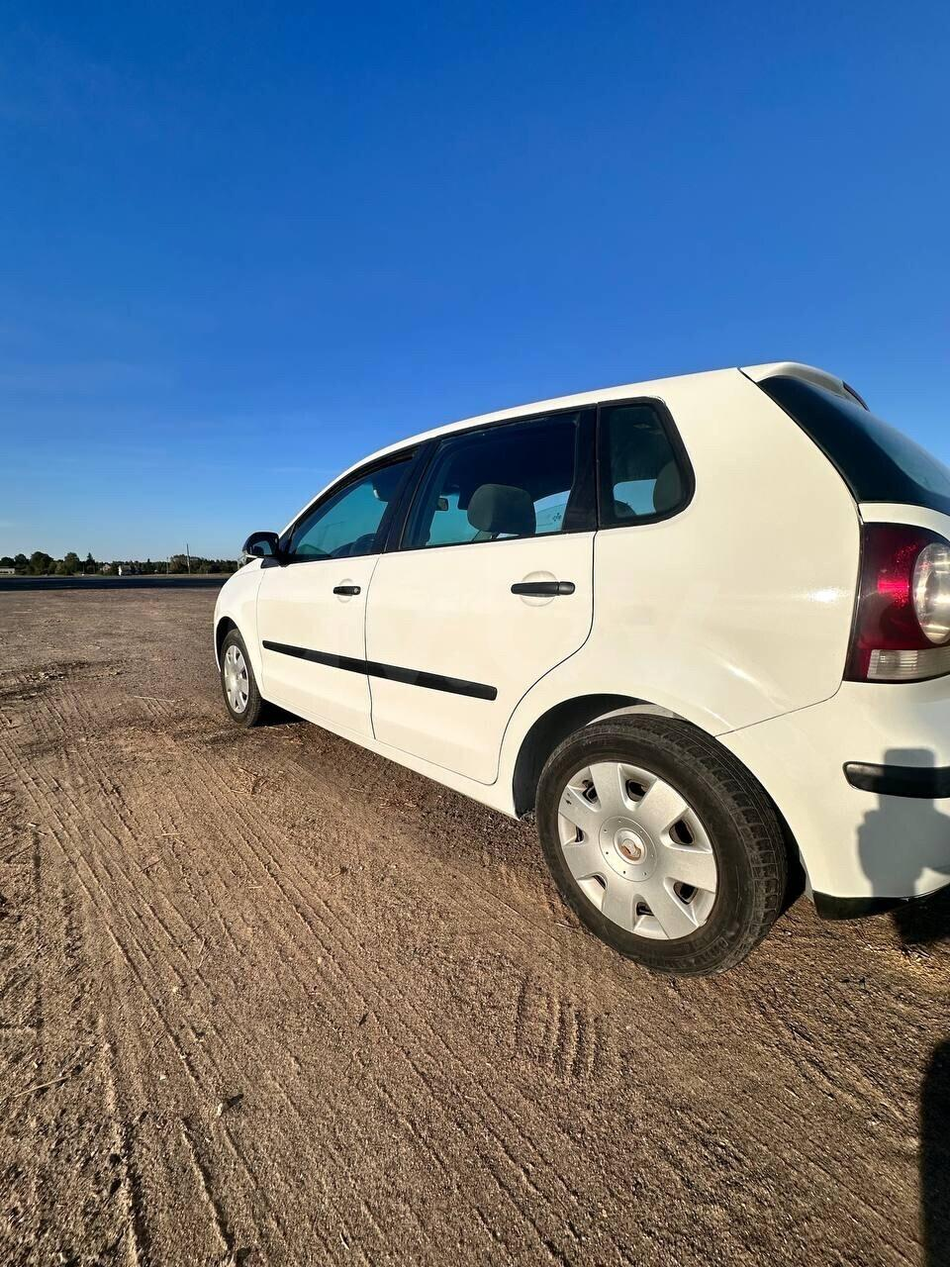Polo_2005-2009: (176, 354, 950, 984)
